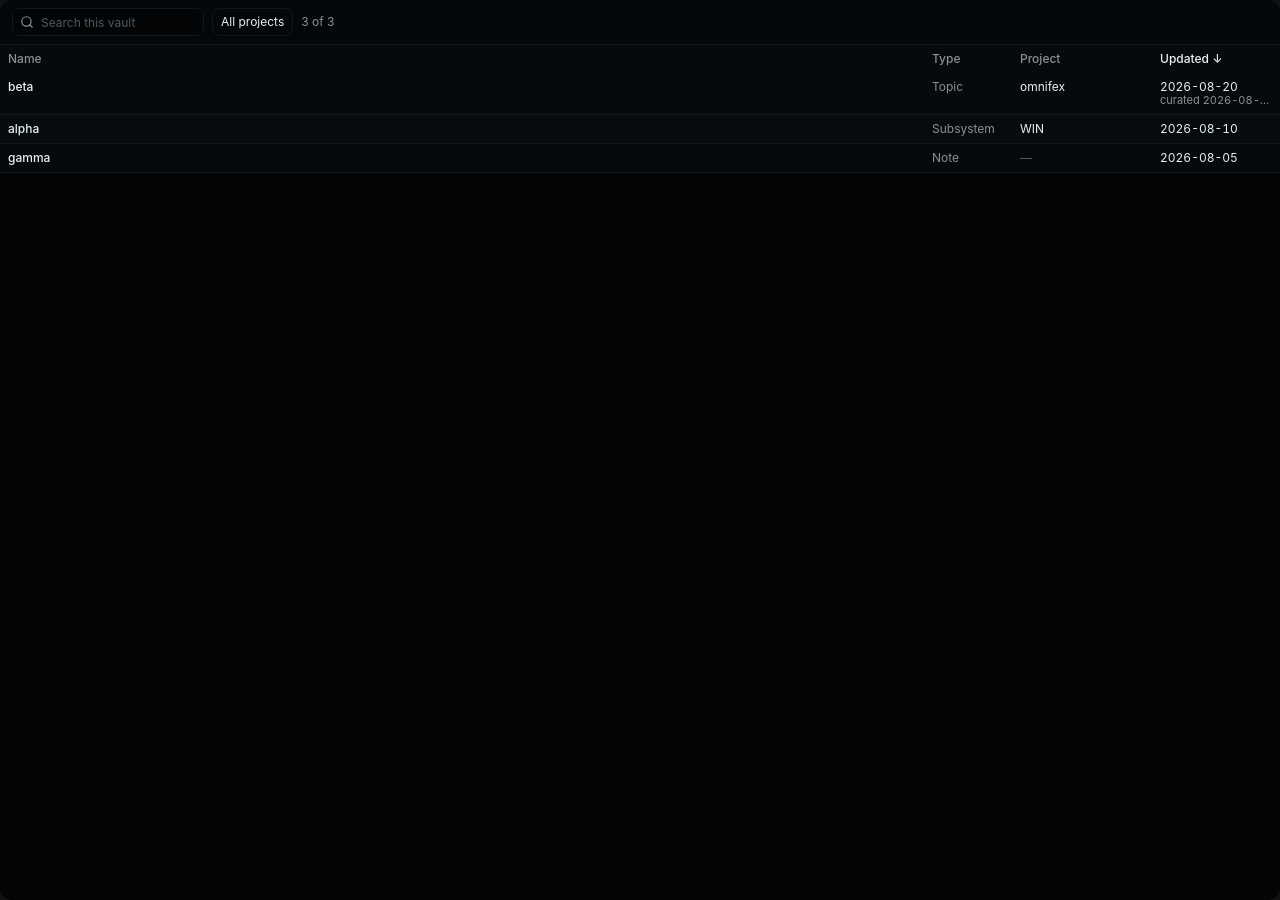
BrainNotesTable › says a search failed rather than showing an empty vault
Type "stdio" into the field labelled "Search this vault".
click(108, 22); type("stdio")  # box [12,8,204,36]
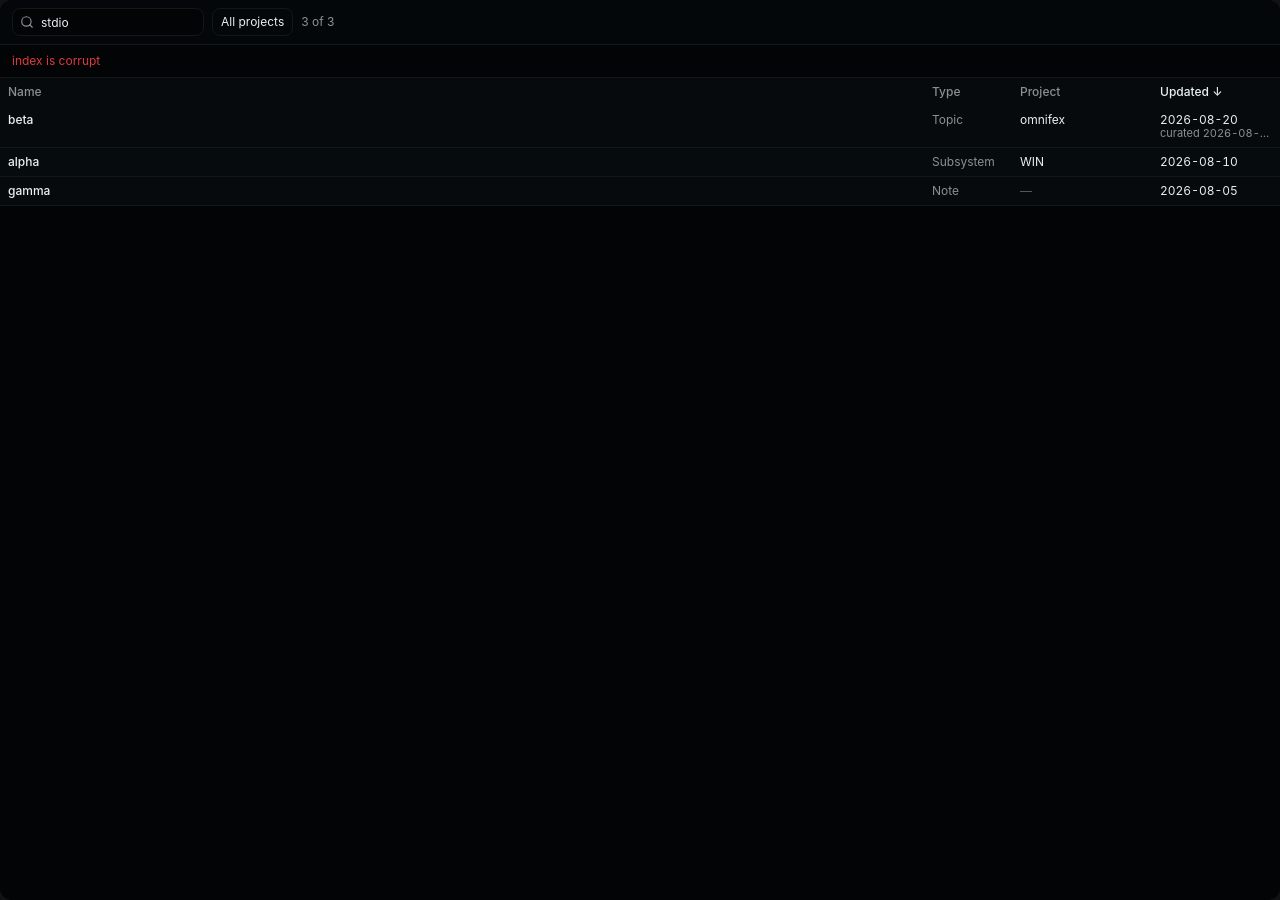
Expected: the text "index is corrupt" is shown, [0,45,1279,78]
